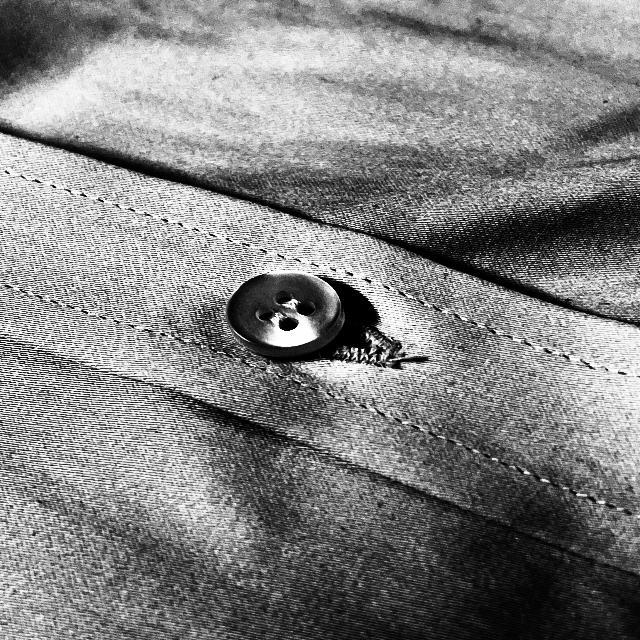Button_hike: (222, 262, 430, 388)
